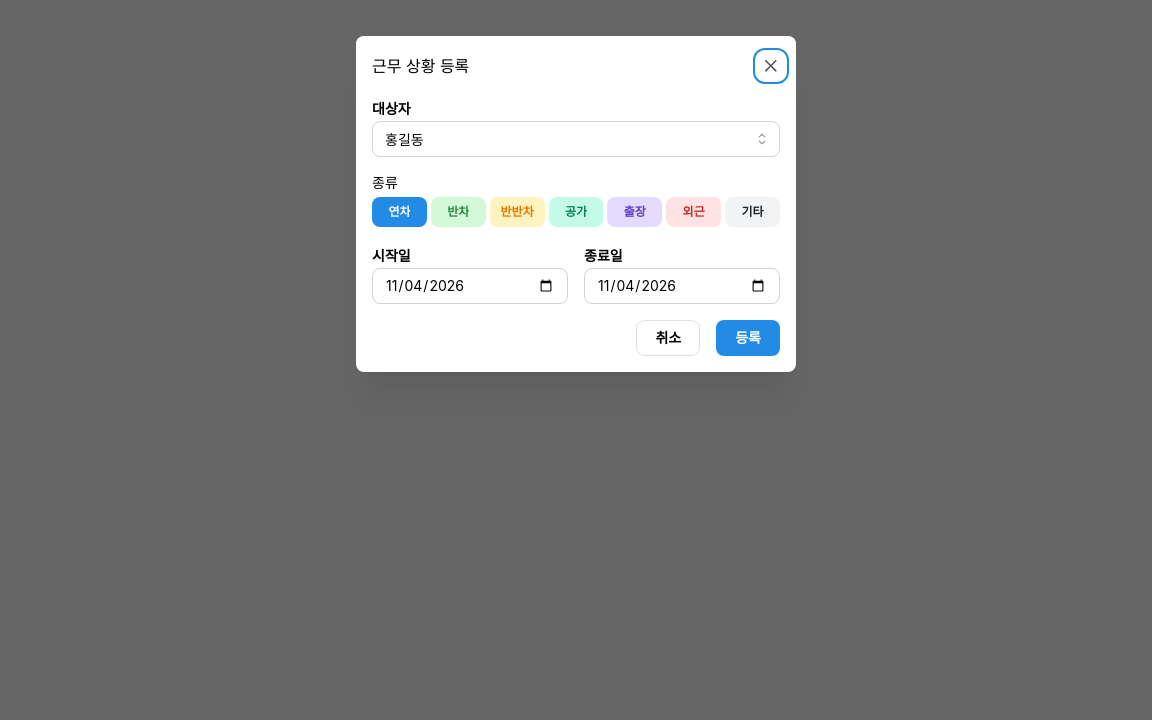
WorkStatusForm › 관리자·개발자는 대상자를 다른 팀원으로 바꿀 수 있다
Click the dropdown labelled "대상자".
click(576, 139)  # box top-left (372, 121), bottom-right (780, 157)
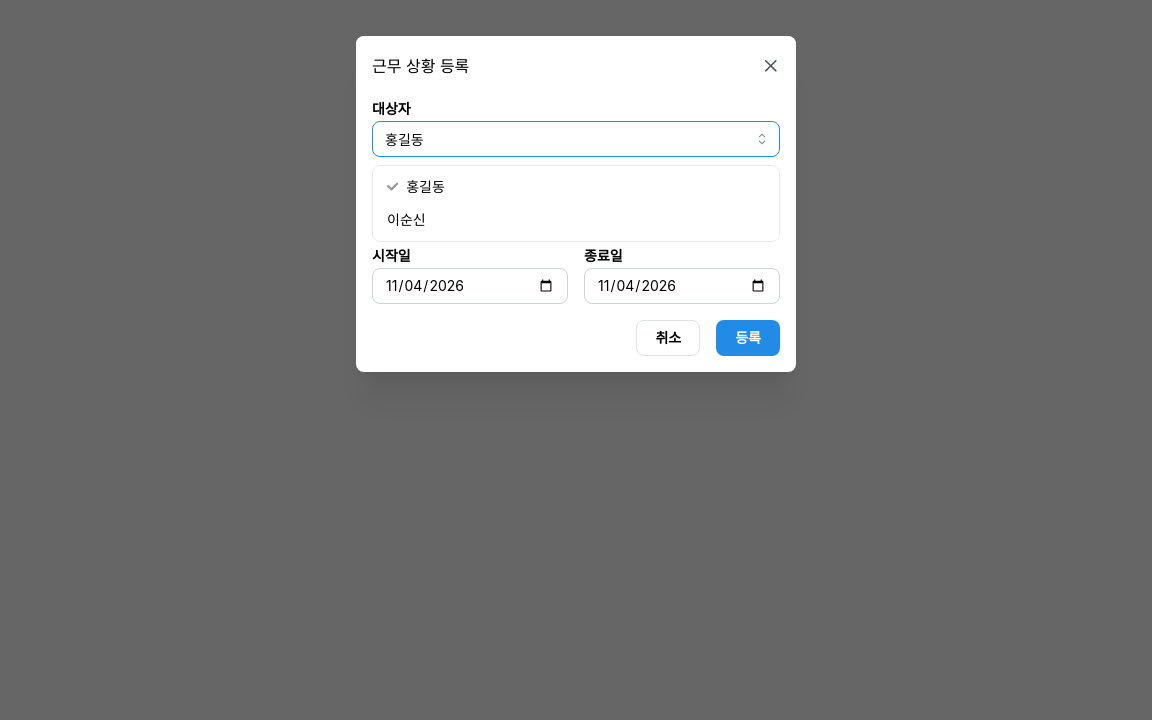
Click the option "이순신".
click(406, 220)  # box top-left (387, 212), bottom-right (426, 228)
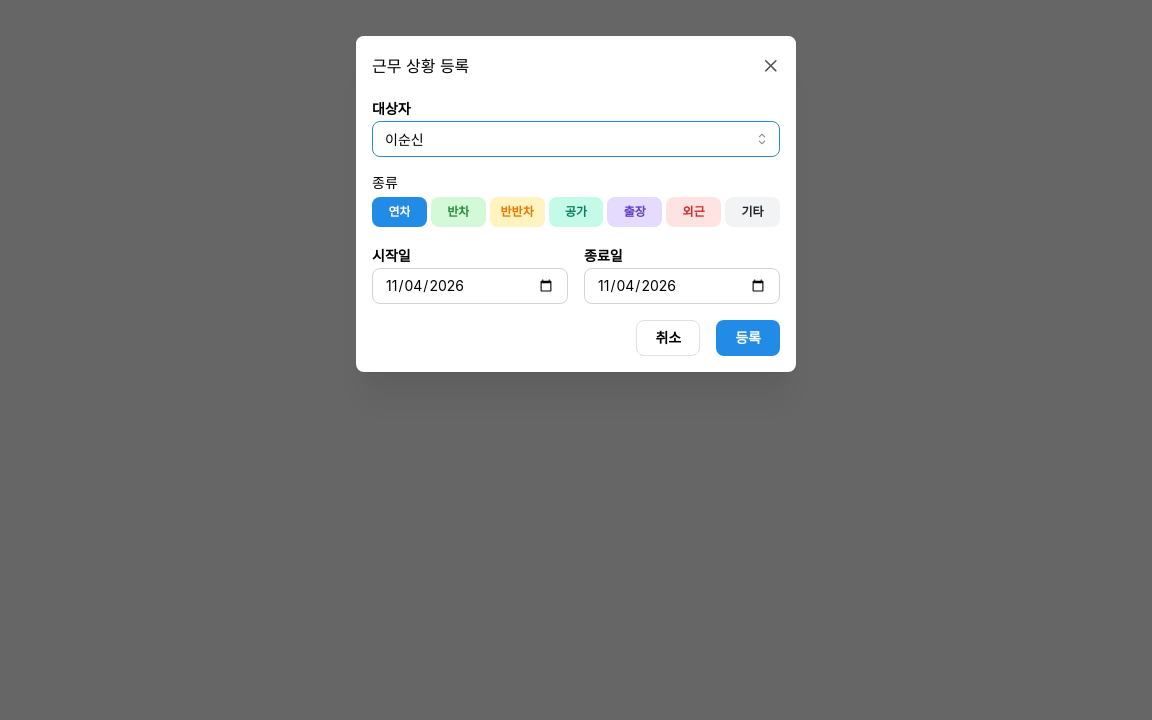
Result: the dropdown labelled "대상자" holds "이순신" at top-left (372, 121), bottom-right (780, 157)
